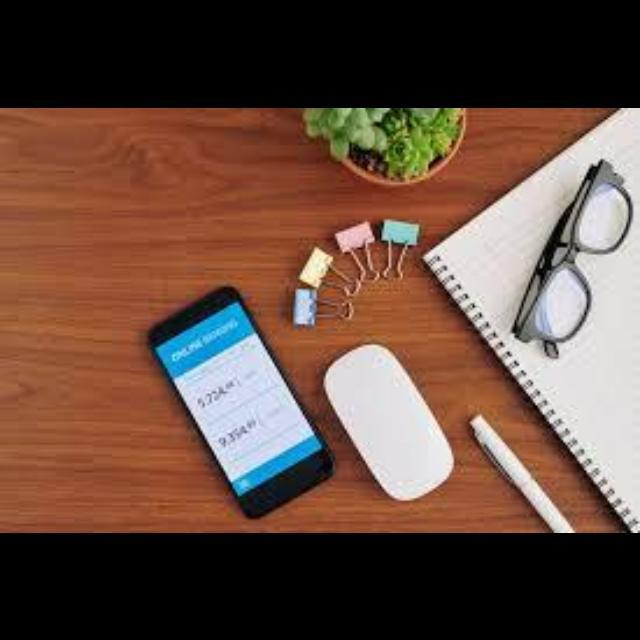Phone: (145, 286, 335, 520)
